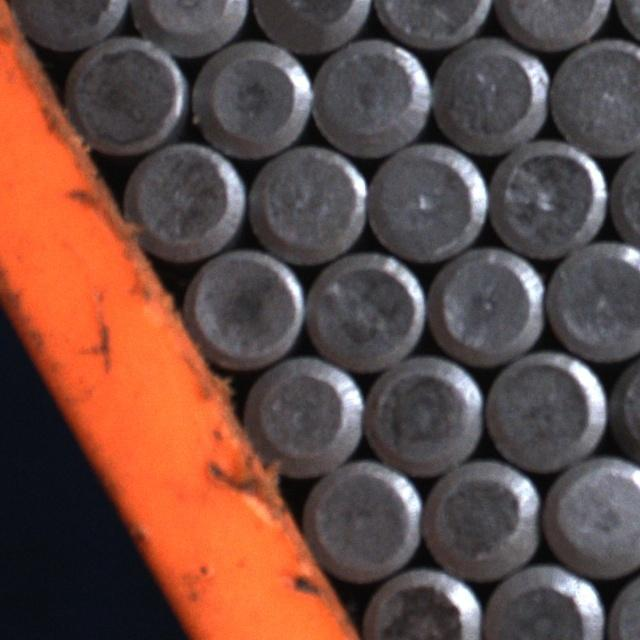tool: (481, 348, 607, 472), (302, 248, 426, 372), (63, 34, 185, 157), (125, 138, 246, 262), (422, 458, 543, 582), (245, 354, 366, 478), (311, 35, 432, 158), (192, 37, 312, 161), (188, 244, 306, 370), (247, 141, 368, 263), (367, 139, 486, 263), (305, 457, 423, 581), (366, 353, 484, 476), (487, 138, 606, 258), (427, 244, 545, 364), (430, 34, 548, 154), (542, 453, 640, 578), (544, 238, 640, 364), (545, 36, 640, 159), (482, 563, 604, 640), (364, 566, 482, 640), (248, 0, 372, 56), (130, 0, 250, 57), (493, 0, 612, 54), (8, 0, 128, 53), (373, 0, 493, 52)
